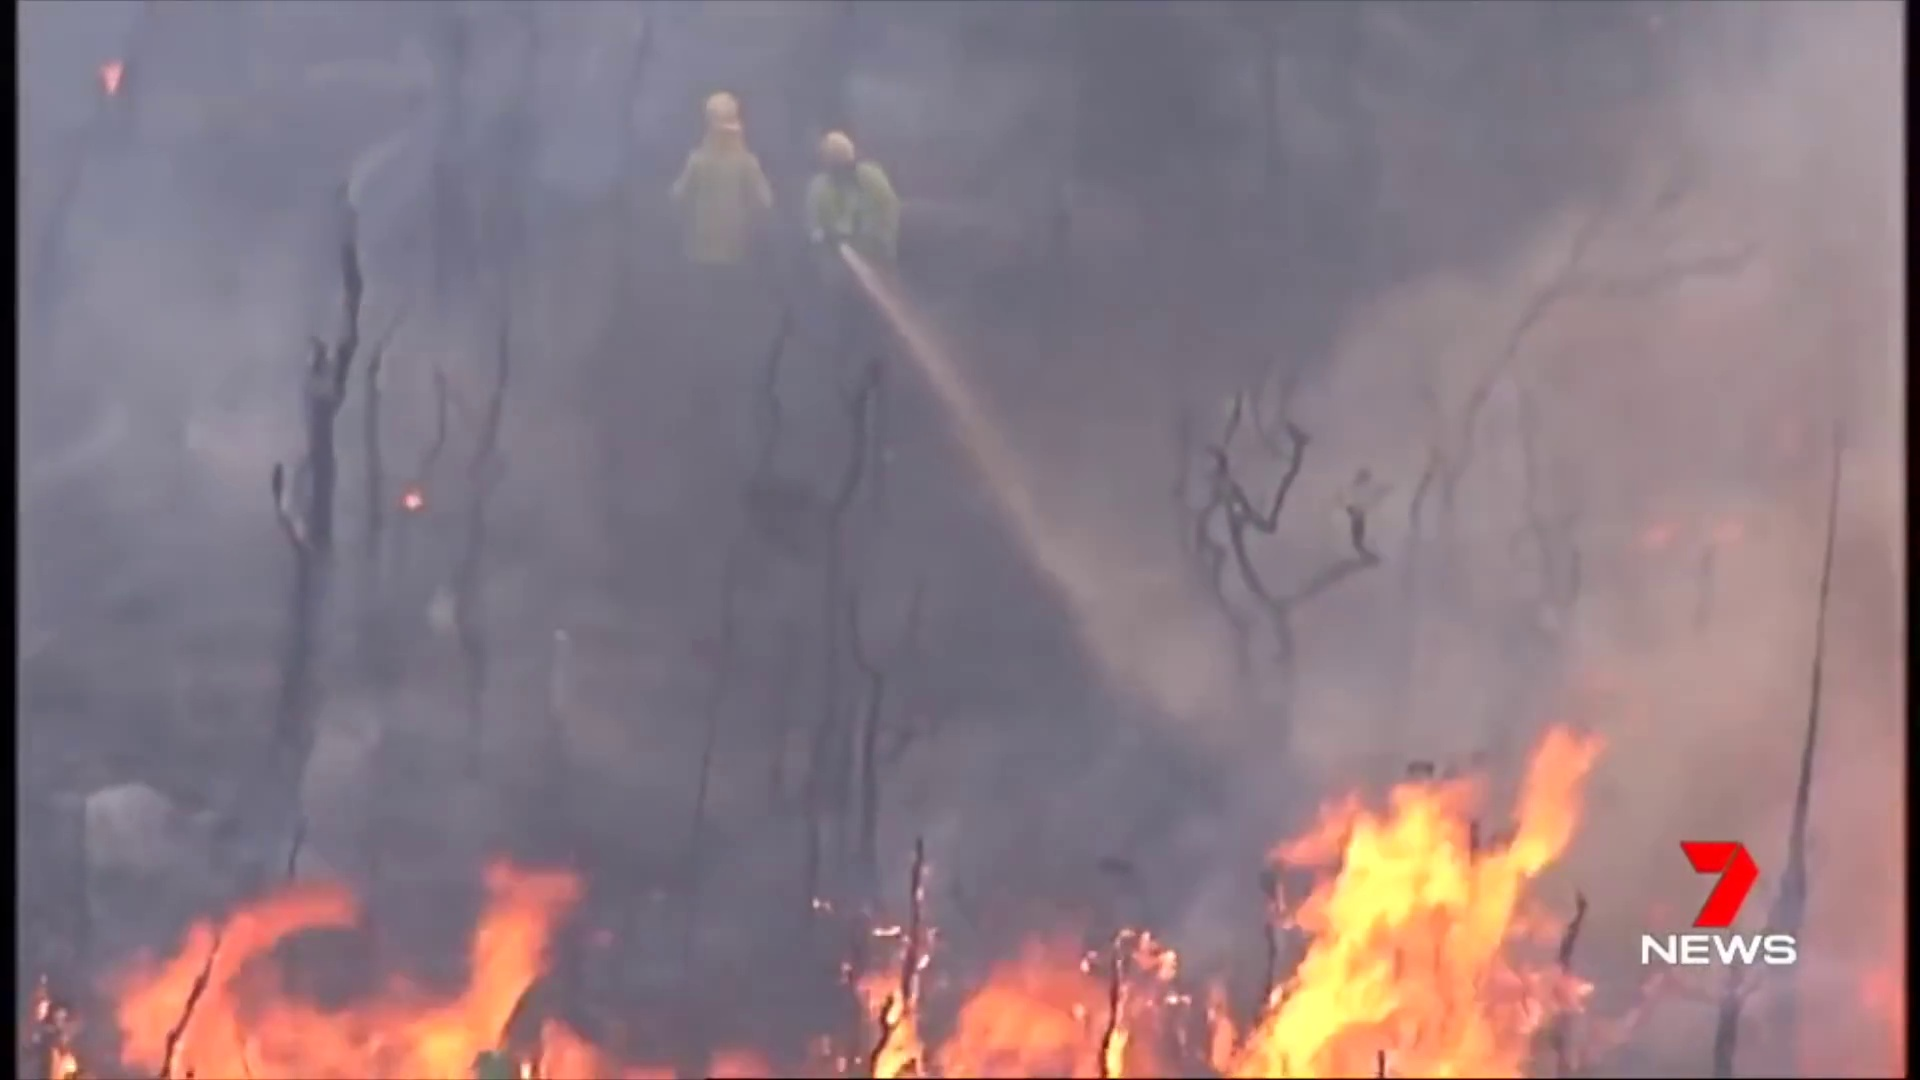fire: (1247, 769, 1552, 1080), (126, 925, 332, 1080), (878, 976, 924, 1080), (1095, 1006, 1138, 1080)
